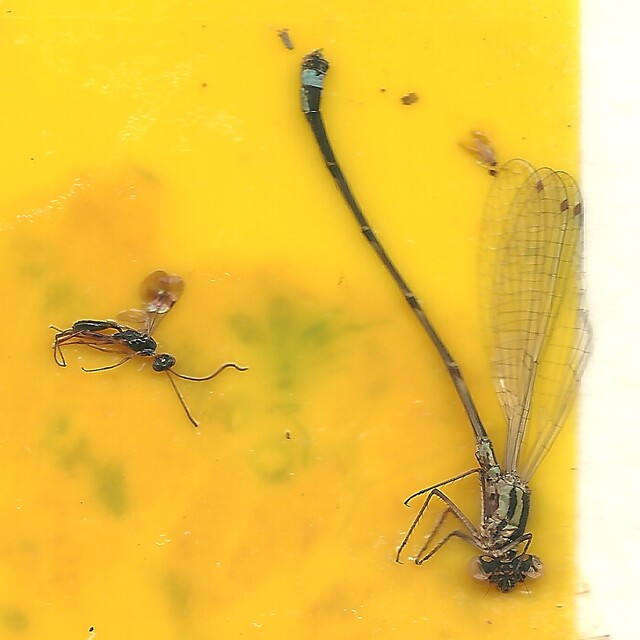Hymenoptera: (51, 270, 246, 427)
Odonata: (295, 48, 589, 592)
Trichoptera: (456, 129, 500, 168)
